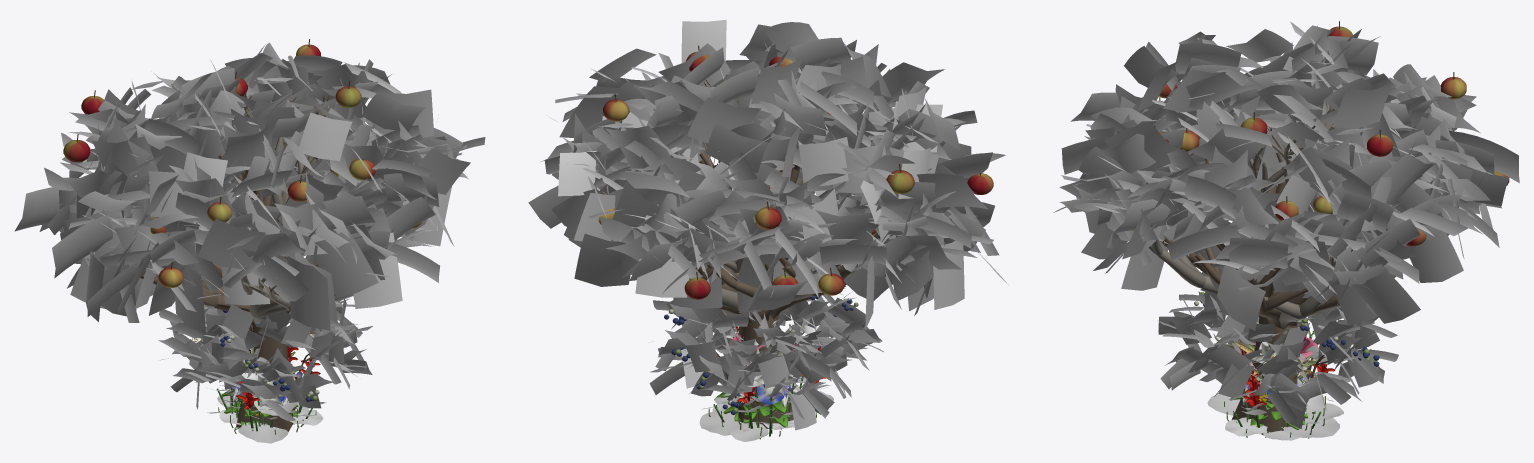
Rendered from flowers.glb.
3 views of the same model, side by side, from view 1: azimuth 30°, elevation 25°; view 2: azimuth 150°, elevation 25°; view 3: azimuth 270°, elevation 25° (orthographic). The views are drawn at different scales.
Parts seen in each view (by area): view 1: fruit_leaf, oak_leaf, berry_leaf, fruit, oak, deadtree, lotus_leaf, salvia, berry; view 2: fruit_leaf, oak_leaf, berry_leaf, fruit, oak, lotus_leaf, deadtree, berry, F3; view 3: fruit_leaf, oak_leaf, berry_leaf, fruit, deadtree, oak, lotus_leaf, berry, salvia.
Part boxes in pixels (x1,y1,x2,y2): fruit_leaf: (39,44,466,330); oak_leaf: (14,42,485,334); berry_leaf: (158,294,372,420); fruit: (63,39,421,295); oak: (140,150,323,431); deadtree: (221,92,335,327); lotus_leaf: (217,395,323,443); salvia: (217,346,320,431); berry: (220,310,319,401); fruit_leaf: (541,19,999,329); oak_leaf: (528,43,1008,315); berry_leaf: (648,291,883,430); fruit: (598,45,993,322); oak: (695,164,880,428); lotus_leaf: (699,376,833,441); deadtree: (602,78,840,322); berry: (664,296,858,414); F3: (714,380,791,427); fruit_leaf: (1053,21,1509,300); oak_leaf: (1059,26,1519,330); berry_leaf: (1157,272,1398,429); fruit: (1132,21,1509,326); deadtree: (1149,104,1353,329); oak: (1171,148,1334,435); lotus_leaf: (1207,384,1343,440); berry: (1176,292,1379,383); salvia: (1234,349,1335,428).
Bounding box in the file's own units: 3.71 × 3.11 × 3.43.
